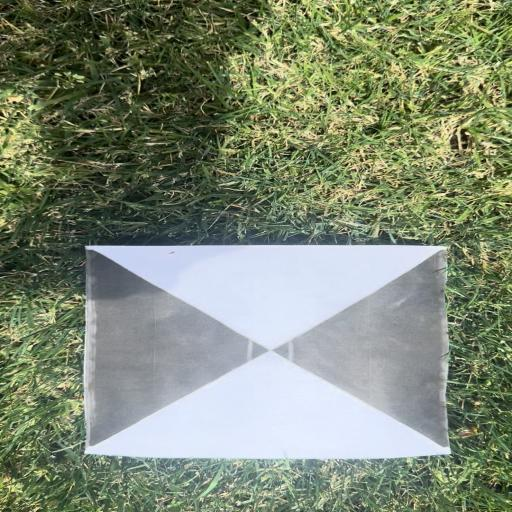target: (88, 246, 455, 455)
